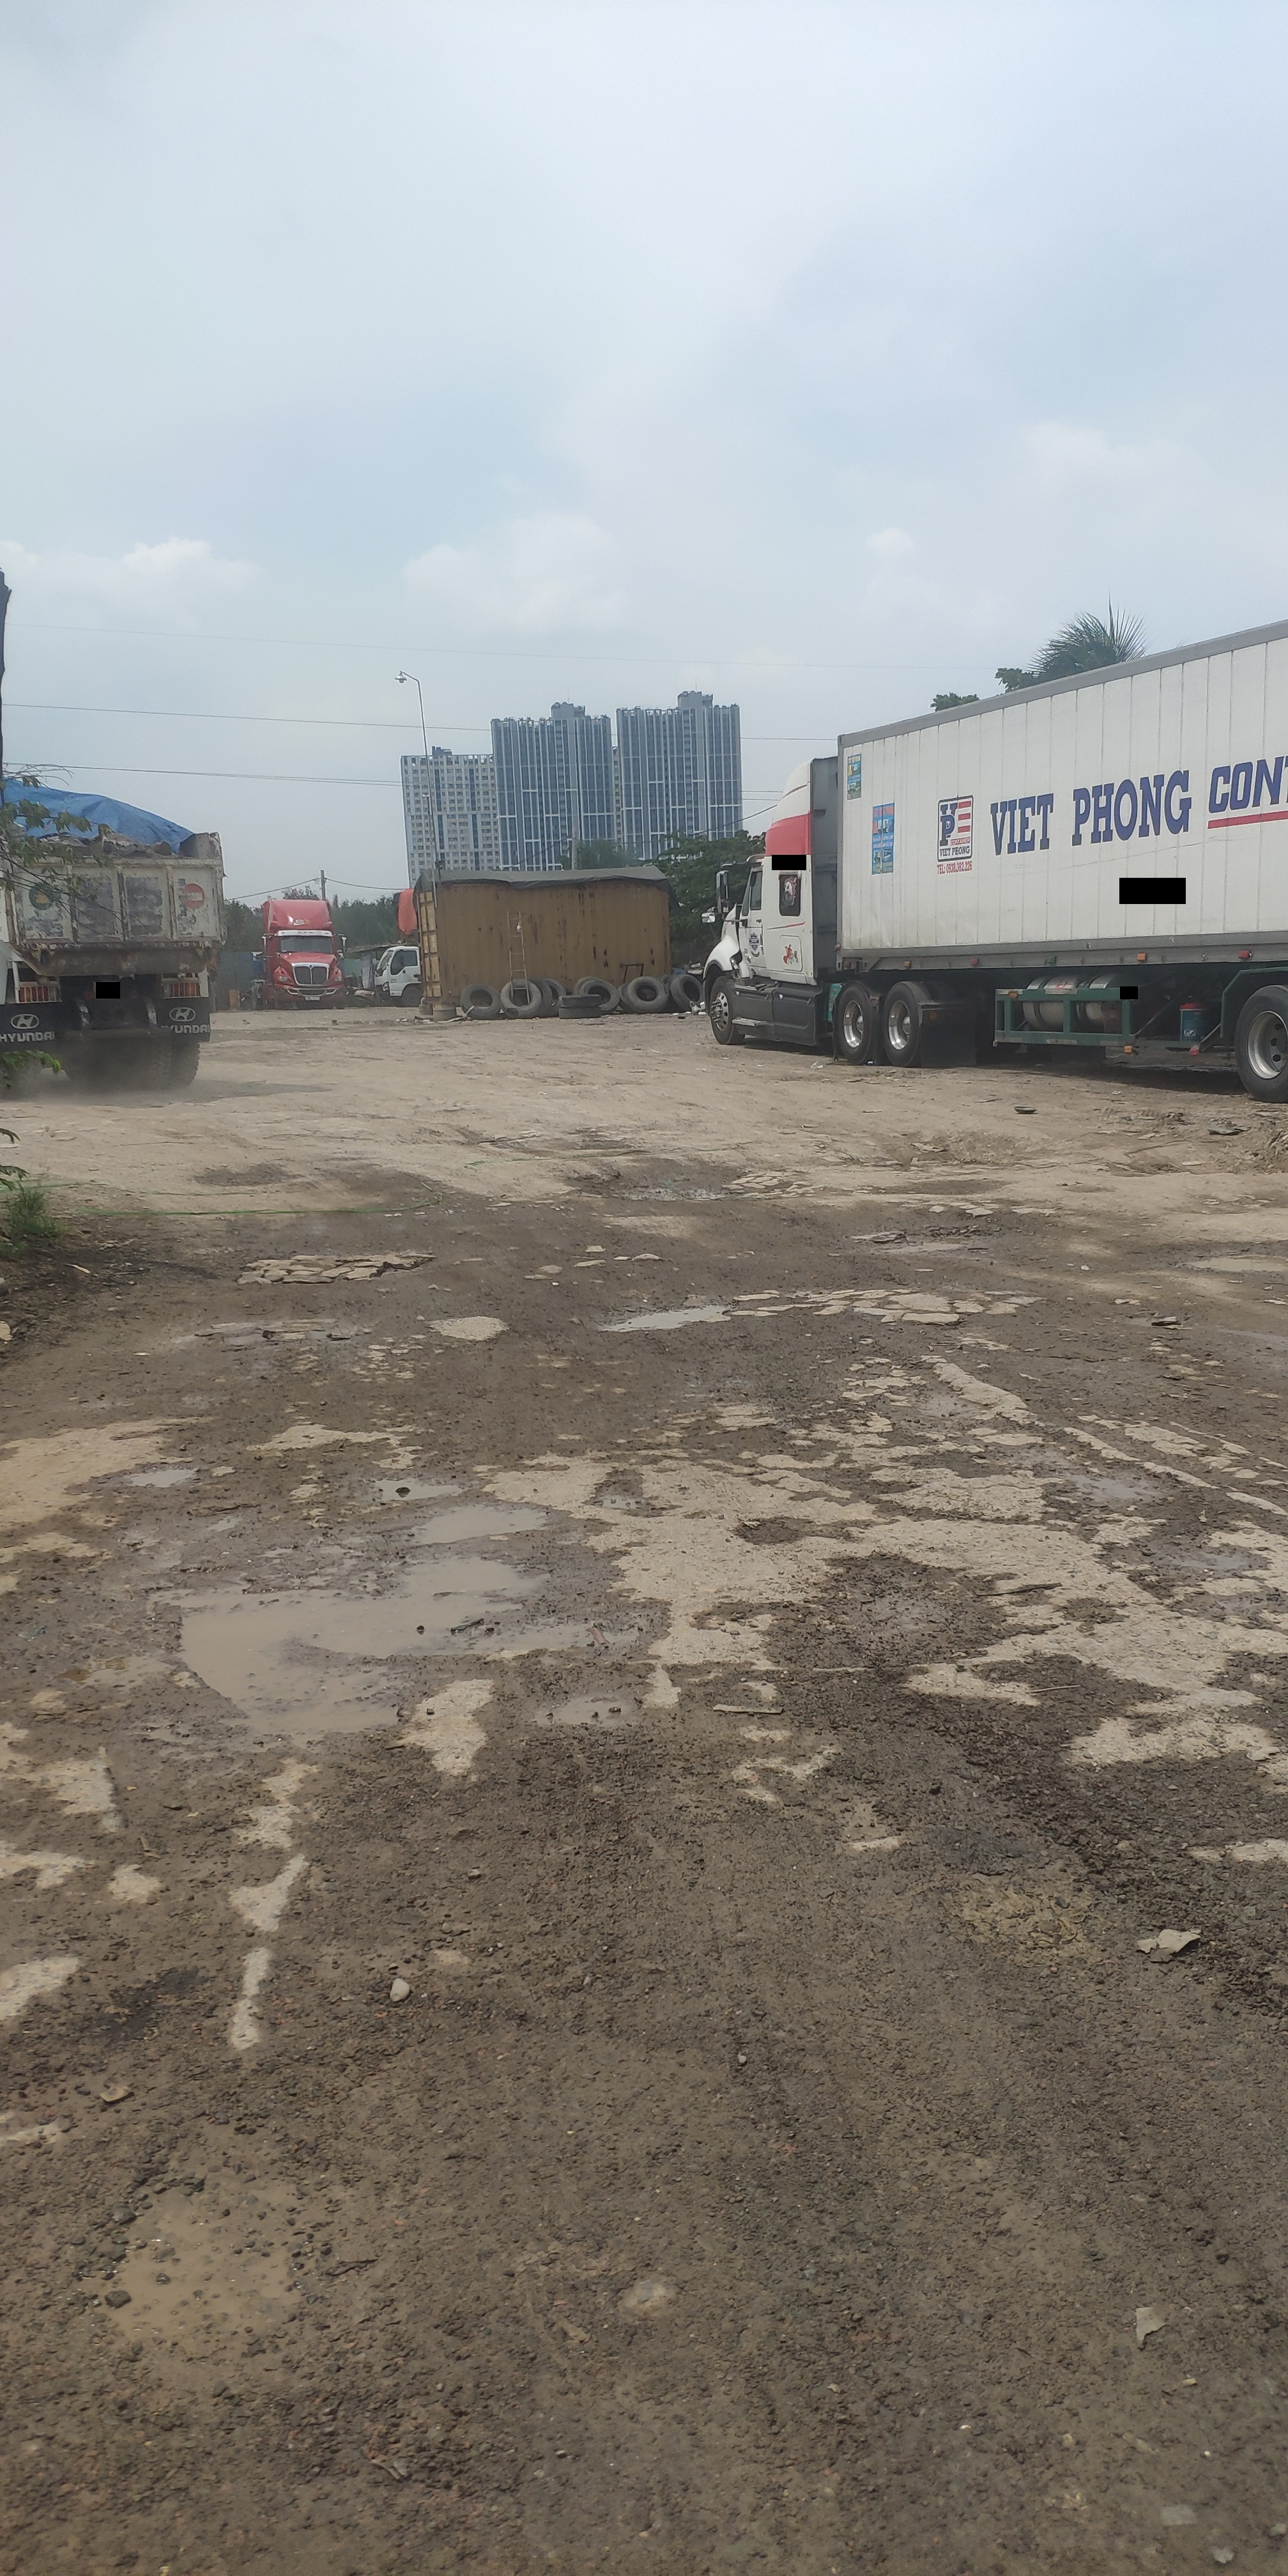hole: (133, 1549, 549, 1740), (1020, 1441, 1193, 1513), (839, 1122, 1050, 1176), (839, 1204, 1019, 1257), (575, 1163, 764, 1212), (862, 1367, 1015, 1428), (398, 1495, 559, 1552), (1101, 1138, 1288, 1181), (606, 1293, 743, 1342), (519, 1682, 642, 1736), (1150, 1239, 1288, 1286), (363, 1467, 463, 1511), (1157, 1188, 1288, 1219), (197, 1163, 306, 1193), (120, 1464, 204, 1490)
